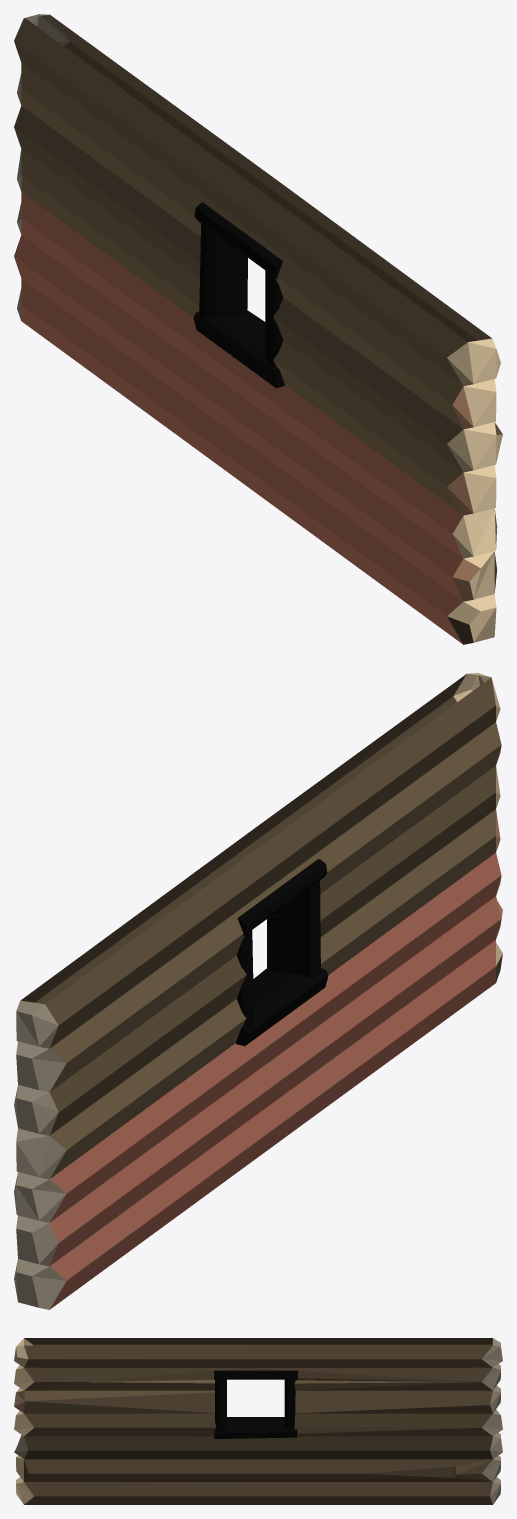
File: EA03_Village_Hut_Wall_Painted_Front_02a.glb
3 renders of one model, top to bottom at view 1: azimuth 30°, elevation 25°; view 2: azimuth 150°, elevation 25°; view 3: azimuth 270°, elevation 25°, orthographic. The views are drawn at different scales.
Visible parts, largest first — view 1: EA03_Village_Hut_Wall_Painted_Front_02a; view 2: EA03_Village_Hut_Wall_Painted_Front_02a; view 3: EA03_Village_Hut_Wall_Painted_Front_02a.
Part boxes in pixels (box(x1,y1,x2,y2)): EA03_Village_Hut_Wall_Painted_Front_02a: box(14, 14, 502, 644); EA03_Village_Hut_Wall_Painted_Front_02a: box(14, 673, 502, 1309); EA03_Village_Hut_Wall_Painted_Front_02a: box(14, 1338, 502, 1504).
Bounding box in the file's own units: 0.5914 × 3.09 × 8.56.
Materials: 1 (1 with a texture image).
